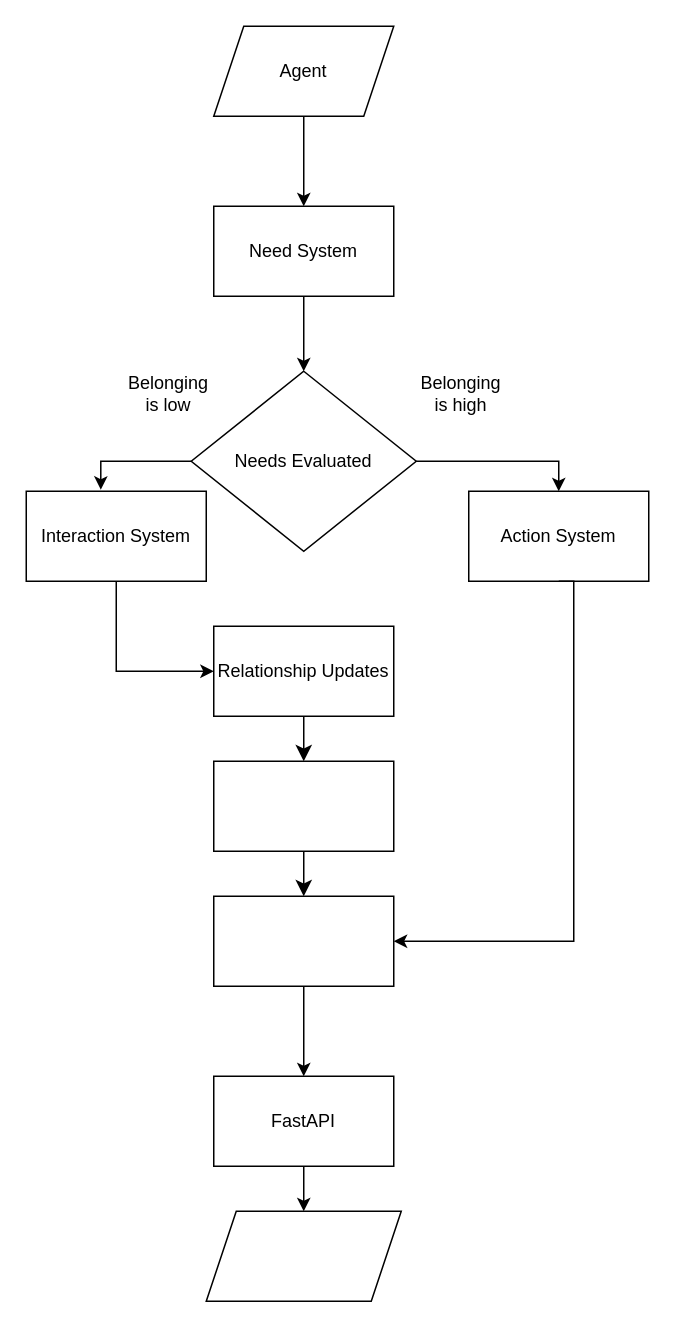
The diagram is 675 pixels wide and 1328 high, and some of its shapes have lost their labels. The shapes that lost their labels are listed below. From the top down, each one's centre as x and y in pixels, then its label:
(303,805): Memory System
(303,940): State Export
(303,1255): Live Dashboard
